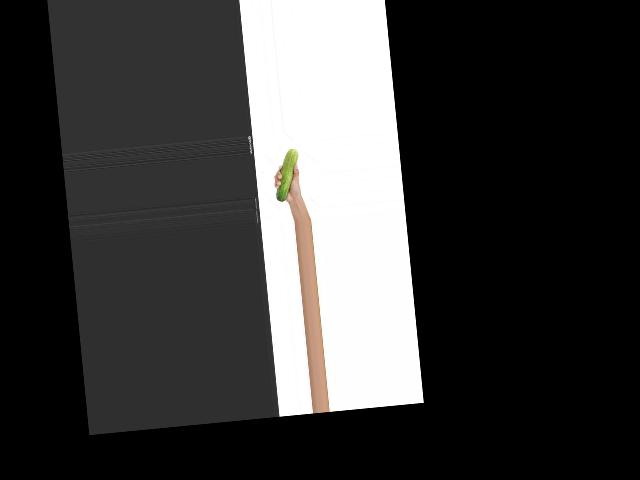cucumber: (271, 148, 302, 202)
